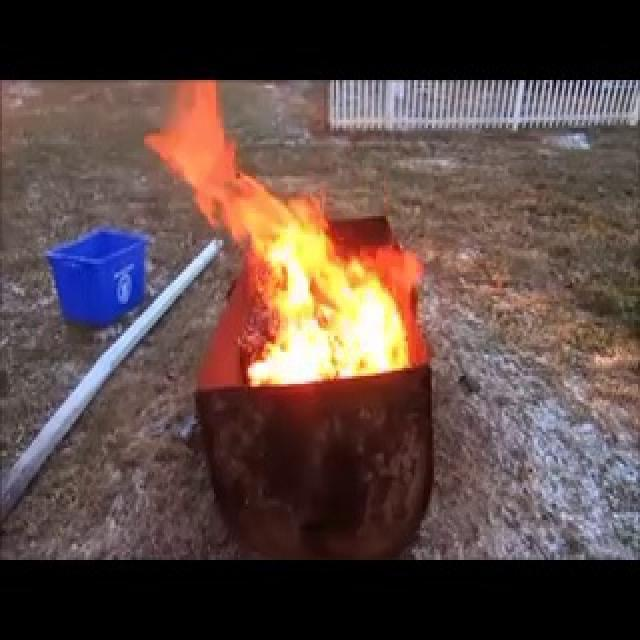Fire: (144, 90, 410, 384)
